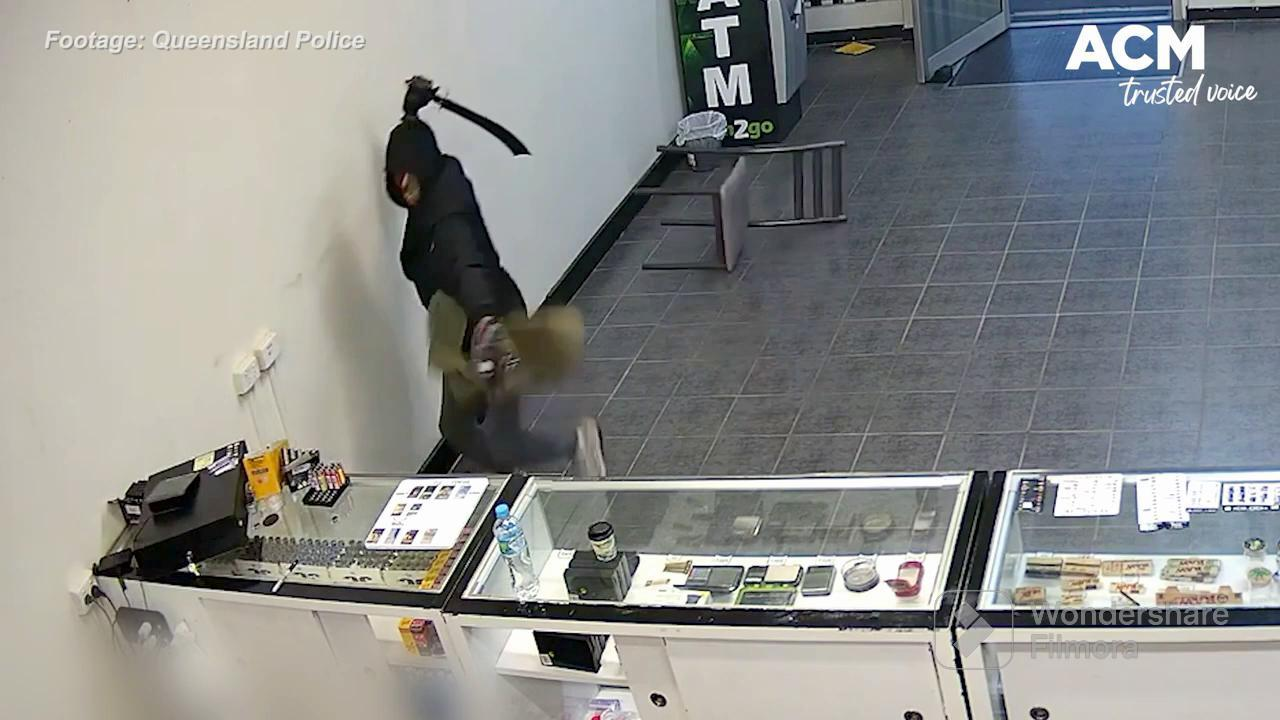melee: (412, 78, 534, 160)
